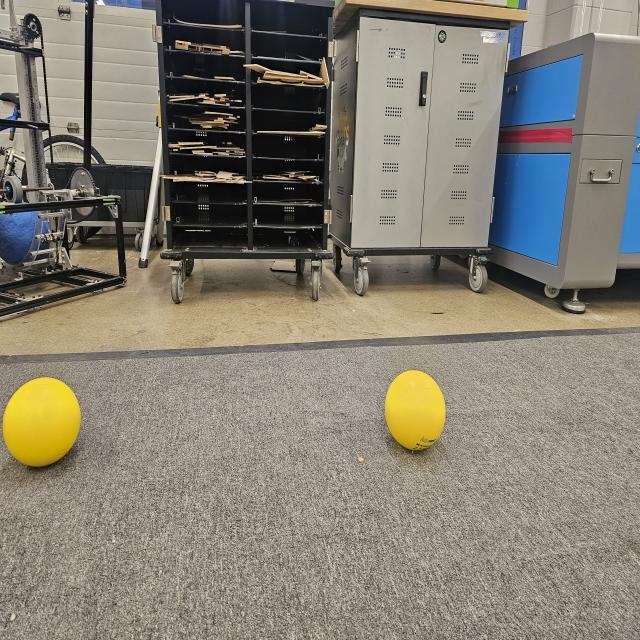Fuel: (3, 377, 81, 467), (385, 370, 445, 451)
